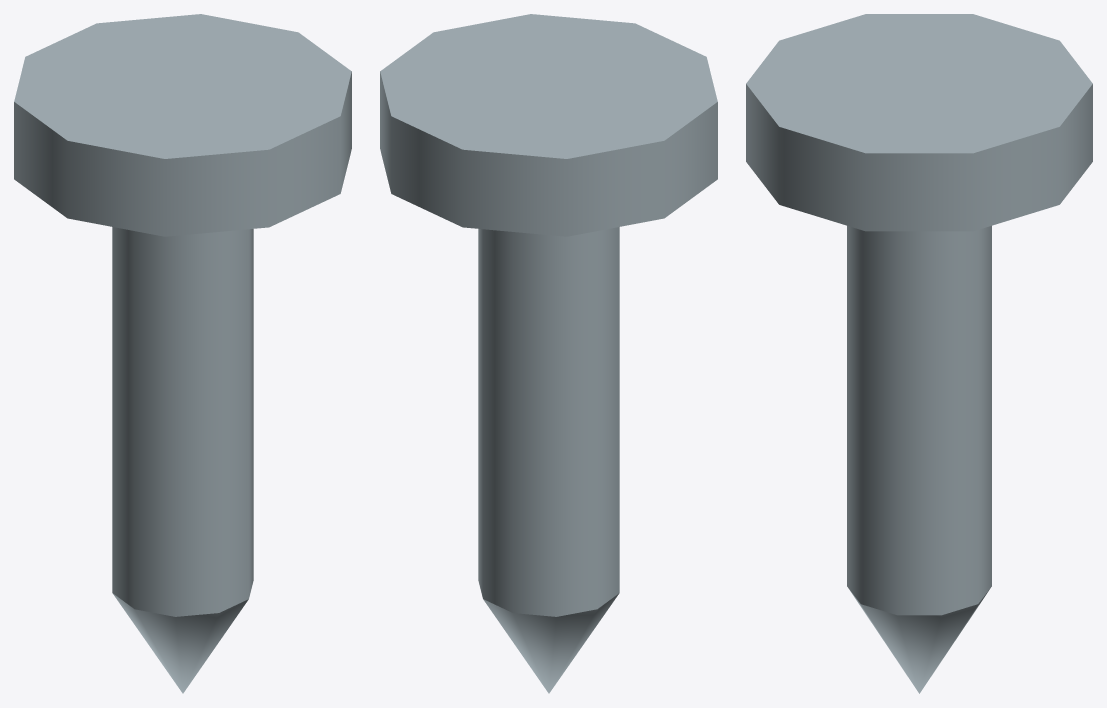
Rendered from nail.gltf.glb.
3 renders of one model, left to right at view 1: azimuth 30°, elevation 25°; view 2: azimuth 150°, elevation 25°; view 3: azimuth 270°, elevation 25°, orthographic.
Visible parts, largest first — view 1: nail; view 2: nail; view 3: nail.
Part boxes in pixels (left/top/right/bottom): nail: left=14, top=14, right=351, bottom=693; nail: left=380, top=14, right=717, bottom=693; nail: left=746, top=14, right=1092, bottom=693.
Size of the model in its own units: 0.108 by 0.2205 by 0.1136.
